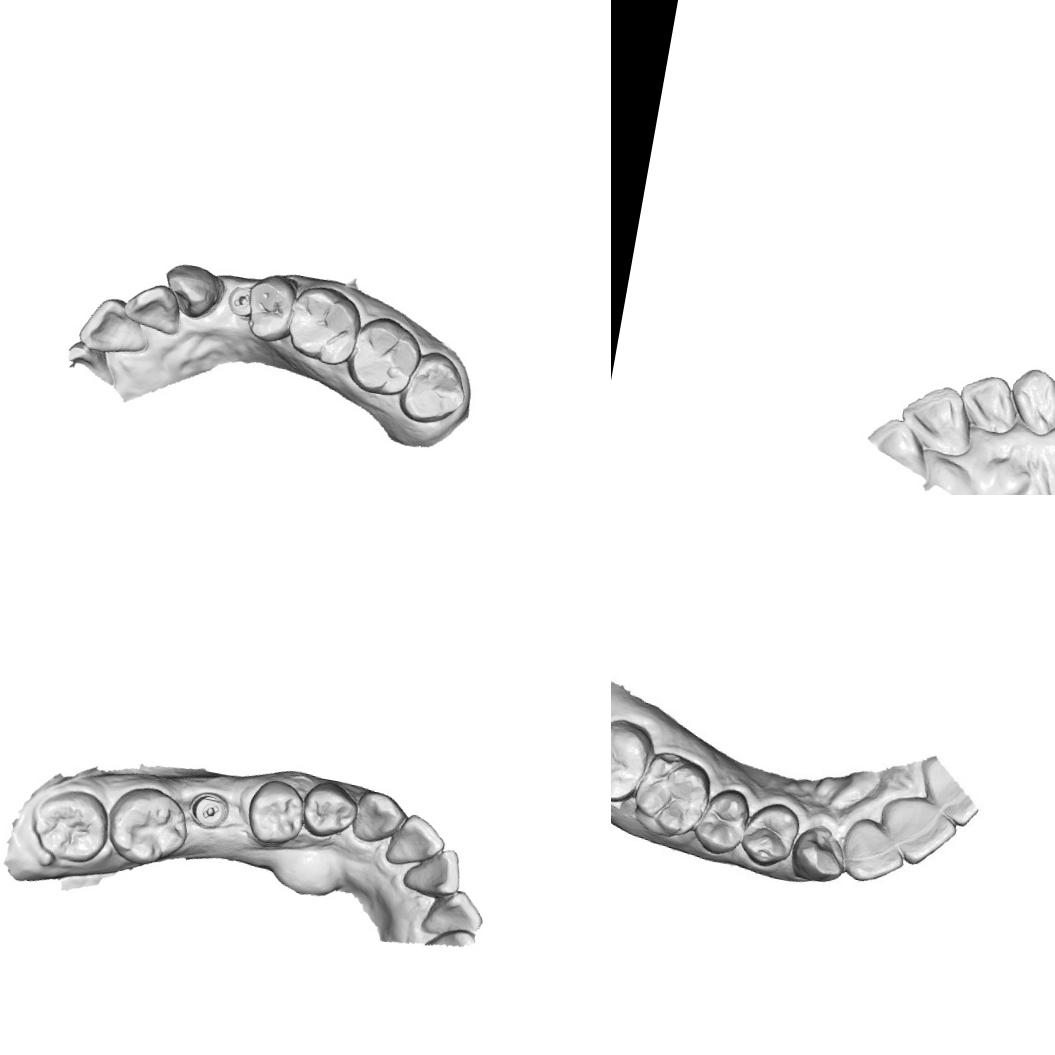canine: (156, 254, 228, 322), (345, 782, 412, 848), (787, 820, 850, 886), (1003, 359, 1055, 437)
implant_minus: (186, 786, 234, 834), (224, 282, 256, 318)
incisor: (894, 375, 980, 460), (872, 789, 960, 870), (75, 292, 156, 361), (836, 814, 910, 888), (379, 806, 449, 876), (952, 369, 1022, 438), (396, 839, 466, 901), (418, 882, 488, 944), (119, 277, 187, 337)
molar: (100, 779, 198, 874), (627, 746, 716, 844), (23, 780, 114, 869), (342, 310, 427, 401), (282, 280, 367, 369), (395, 345, 472, 430), (611, 712, 660, 809)
premolar: (240, 774, 311, 852), (688, 782, 754, 859), (737, 796, 803, 870), (237, 268, 298, 347), (298, 774, 364, 845)
